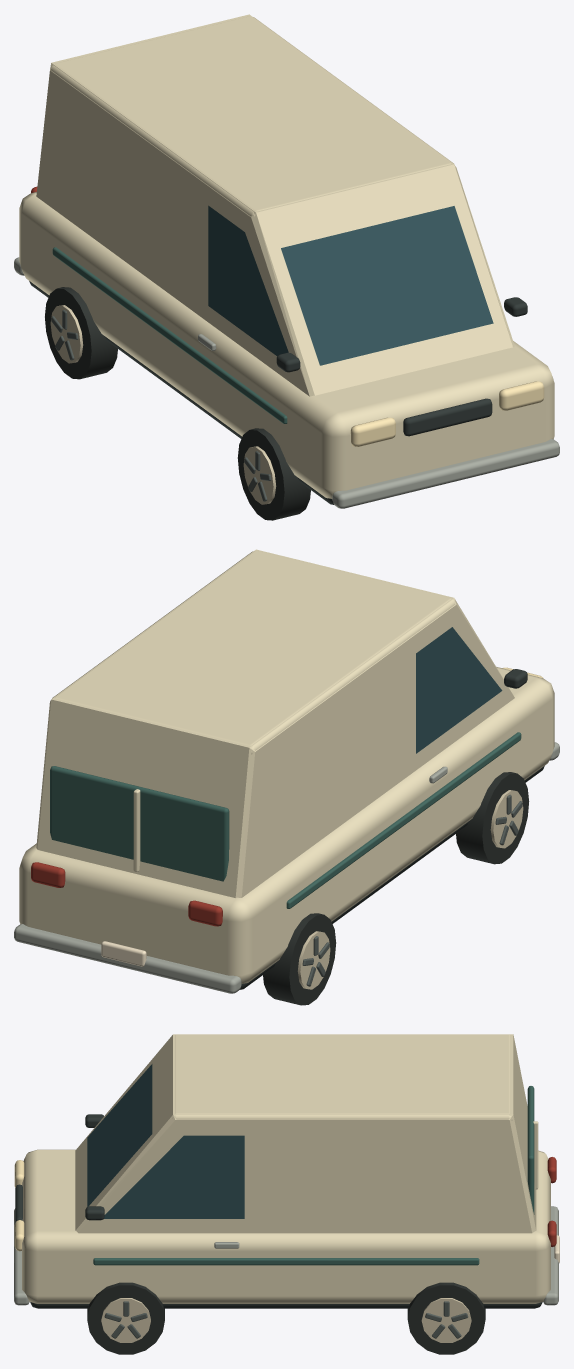
The model's file is vehicle-van.glb.
The picture shows the model from 3 angles, top to bottom: view 1: azimuth 30°, elevation 25°; view 2: azimuth 150°, elevation 25°; view 3: azimuth 270°, elevation 25°; orthographic projection. The views are drawn at different scales.
Parts seen in each view (by area): view 1: Harbor vehicle van, wheel--1-1, wheel--1--1; view 2: Harbor vehicle van, wheel--1--1, wheel--1-1; view 3: Harbor vehicle van, wheel-1--1, wheel-1-1.
Part boxes in pixels (x1,y1,x2,y2): Harbor vehicle van: (14, 14, 559, 508); wheel--1-1: (237, 428, 310, 520); wheel--1--1: (45, 287, 117, 379); Harbor vehicle van: (14, 549, 559, 993); wheel--1--1: (263, 913, 336, 1005); wheel--1-1: (456, 772, 529, 864); Harbor vehicle van: (14, 1034, 559, 1308); wheel-1--1: (407, 1282, 485, 1354); wheel-1-1: (87, 1282, 164, 1354).
Bounding box in the file's own units: 2.13 × 2.23 × 4.77.
